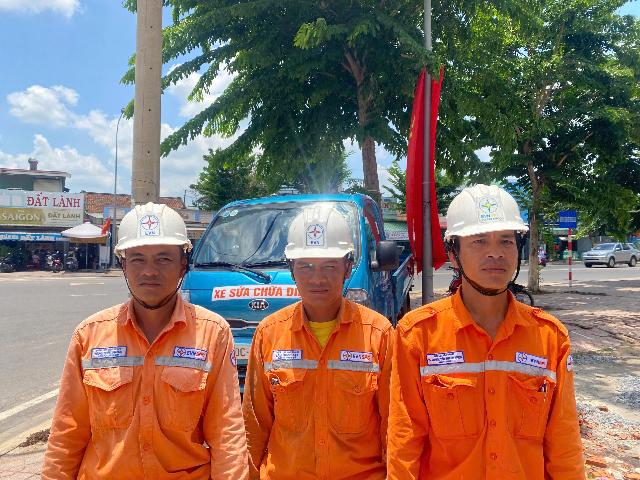helmet: (428, 174, 525, 247), (280, 189, 360, 270), (107, 196, 197, 258)
